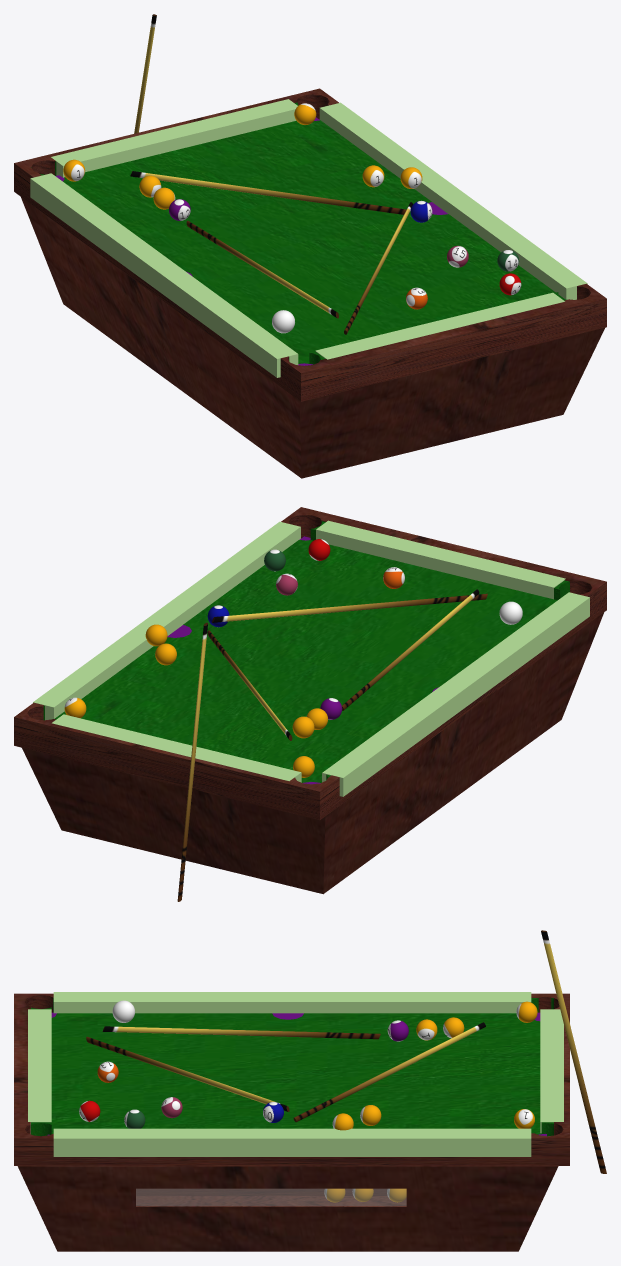
The model's file is Billar01.DAE.
The picture shows the model from 3 angles, top to bottom: view 1: azimuth 30°, elevation 25°; view 2: azimuth 150°, elevation 25°; view 3: azimuth 270°, elevation 25°; orthographic projection. The views are drawn at different scales.
Parts seen in each view (by area): view 1: Tapicera, BaseMesa, LateralMesa, Box_Help_Lateral03, Box_Help_Lateral04, Box_Help_Lateral01, Box_Help_Lateral02, Box_Taco03, Box_Taco02, Box_Taco04, Box_Taco01; view 2: Tapicera, BaseMesa, LateralMesa, Box_Help_Lateral03, Box_Help_Lateral04, Box_Help_Lateral02, Box_Help_Lateral01, Box_Taco04, Box_Taco01, Box_Taco02, Box_Taco03; view 3: Tapicera, BaseMesa, Box_Help_Lateral04, LateralMesa, Box_Help_Lateral03, Cristal, Box_Help_Lateral02, Box_Help_Lateral01, Box_Taco02, Box_Taco01, Box_Taco03, Box_Taco04.
Boxes of the visible parts, x1,y1,x2,y2 form: Tapicera: (31, 102, 566, 364); BaseMesa: (21, 197, 604, 478); LateralMesa: (14, 88, 606, 401); Box_Help_Lateral03: (30, 173, 298, 377); Box_Help_Lateral04: (319, 102, 587, 299); Box_Help_Lateral01: (51, 99, 297, 177); Box_Help_Lateral02: (315, 292, 564, 359); Box_Taco03: (130, 171, 406, 214); Box_Taco02: (186, 220, 338, 318); Box_Taco04: (344, 202, 413, 334); Box_Taco01: (134, 14, 156, 133); Tapicera: (43, 521, 569, 782); BaseMesa: (22, 612, 603, 894); LateralMesa: (14, 507, 606, 820); Box_Help_Lateral03: (322, 592, 589, 796); Box_Help_Lateral04: (33, 521, 300, 720); Box_Help_Lateral02: (316, 520, 565, 599); Box_Help_Lateral01: (52, 714, 301, 782); Box_Taco04: (212, 593, 487, 622); Box_Taco01: (177, 622, 207, 901); Box_Taco02: (342, 589, 479, 710); Box_Taco03: (207, 630, 292, 740); Tapicera: (31, 998, 553, 1136); BaseMesa: (17, 1165, 558, 1251); Box_Help_Lateral04: (53, 1128, 531, 1156); LateralMesa: (14, 993, 569, 1165); Box_Help_Lateral03: (53, 992, 531, 1013); Cristal: (136, 1188, 406, 1206); Box_Help_Lateral02: (28, 1009, 51, 1133); Box_Help_Lateral01: (540, 1009, 563, 1133); Box_Taco02: (102, 1026, 380, 1039); Box_Taco01: (541, 930, 606, 1173); Box_Taco03: (293, 1022, 485, 1122); Box_Taco04: (86, 1036, 289, 1111).
Size of the model in its own units: 151 by 257 by 118.
Materials: 22 (18 with a texture image).
